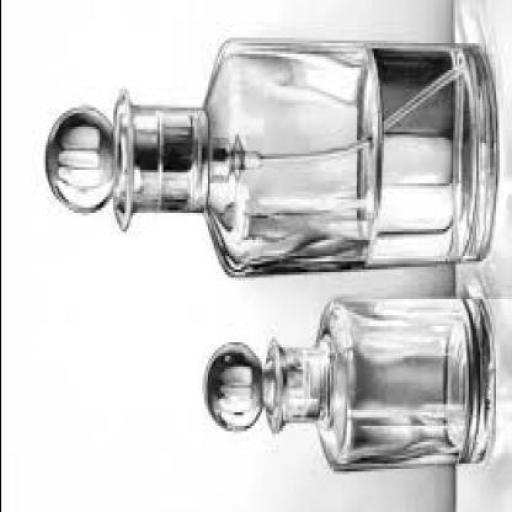glass: (42, 35, 493, 275), (201, 296, 494, 466)
